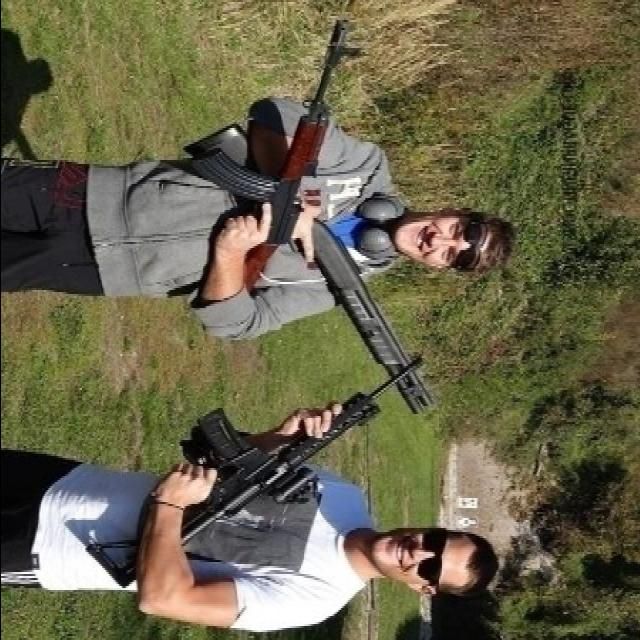rifle: (85, 347, 433, 597), (174, 19, 364, 313), (293, 197, 445, 429)
